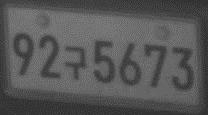2: (38, 33, 61, 78)
3: (169, 44, 194, 90)
5: (92, 38, 116, 84)
6: (119, 41, 142, 86)
7: (143, 43, 167, 88)
9: (12, 31, 34, 76)
구: (64, 45, 88, 80)
